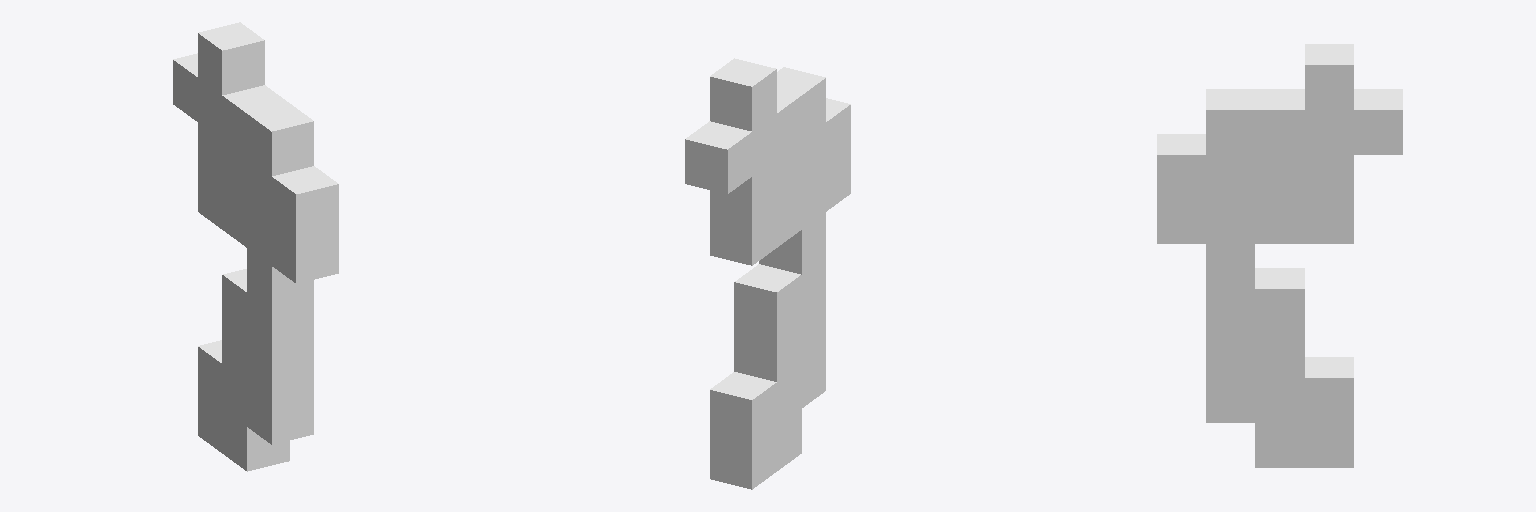
The model's file is YellowHouseParts-18.obj.
3 views of the same model, side by side, from view 1: azimuth 30°, elevation 25°; view 2: azimuth 150°, elevation 25°; view 3: azimuth 270°, elevation 25° (orthographic).
Parts seen in each view (by area): view 1: object 1; view 2: object 1; view 3: object 1.
Part boxes in pixels (x1,y1,x2,y2): object 1: (173, 22, 338, 471); object 1: (685, 58, 850, 489); object 1: (1157, 44, 1402, 467).
Bounding box in the file's own units: 0.1 × 0.9 × 0.5.